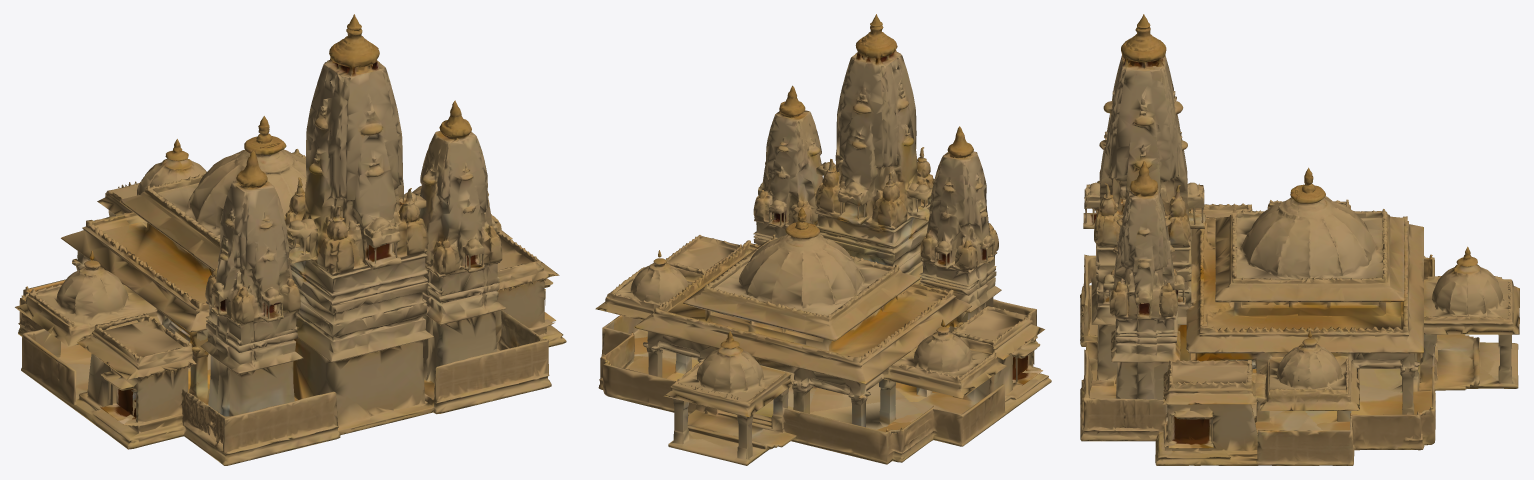
The model's file is temple-low.glb.
The picture shows the model from 3 angles, left to right: view 1: azimuth 30°, elevation 25°; view 2: azimuth 150°, elevation 25°; view 3: azimuth 270°, elevation 25°; orthographic projection. The views are drawn at different scales.
Parts seen in each view (by area): view 1: tripo_node_05f7de71-718a-449a-879a-5124e47c511a; view 2: tripo_node_05f7de71-718a-449a-879a-5124e47c511a; view 3: tripo_node_05f7de71-718a-449a-879a-5124e47c511a.
Boxes of the visible parts, x1=… form: tripo_node_05f7de71-718a-449a-879a-5124e47c511a: x1=15, y1=14, x2=566, y2=465; tripo_node_05f7de71-718a-449a-879a-5124e47c511a: x1=595, y1=14, x2=1051, y2=465; tripo_node_05f7de71-718a-449a-879a-5124e47c511a: x1=1080, y1=14, x2=1519, y2=465.
Bounding box in the file's own units: 0.9999 × 0.8323 × 0.9359.
1 material, 1 textured.
